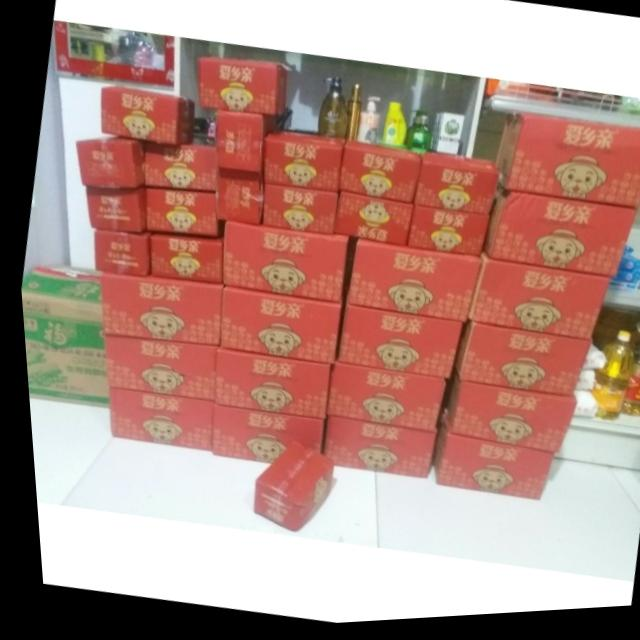box: (492, 119, 640, 217), (479, 192, 633, 284), (463, 257, 606, 347), (17, 264, 102, 411), (341, 243, 475, 327), (438, 379, 570, 459), (219, 224, 345, 307), (446, 327, 587, 401), (426, 422, 546, 506), (328, 306, 456, 384), (214, 288, 336, 368), (96, 273, 219, 349), (207, 351, 328, 424), (320, 367, 440, 437), (99, 335, 213, 406), (315, 420, 428, 484), (245, 445, 325, 534), (204, 406, 319, 467), (102, 390, 207, 453), (335, 143, 419, 210), (196, 59, 287, 120), (99, 88, 193, 147), (410, 158, 495, 221), (260, 133, 344, 196), (330, 196, 408, 252), (402, 210, 487, 261), (146, 234, 222, 288), (259, 185, 334, 238), (142, 143, 215, 197), (74, 137, 145, 192), (212, 113, 273, 176), (143, 190, 214, 239), (83, 188, 144, 235), (212, 171, 261, 227), (91, 232, 147, 278)
